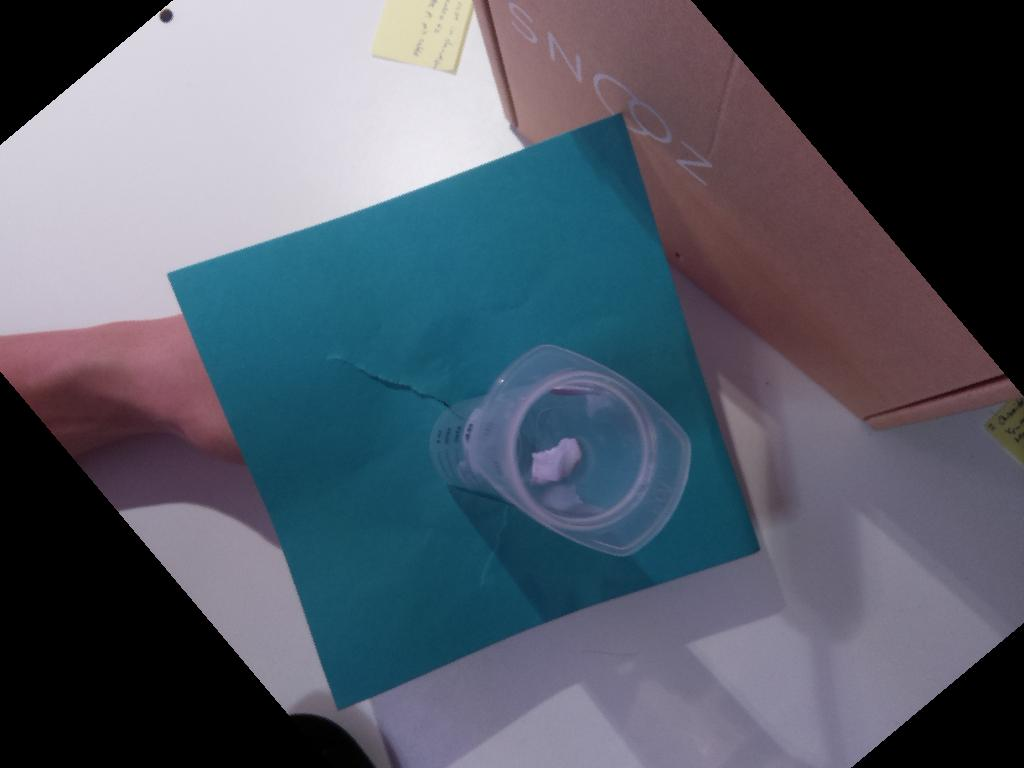dirty: (469, 345, 691, 558)
